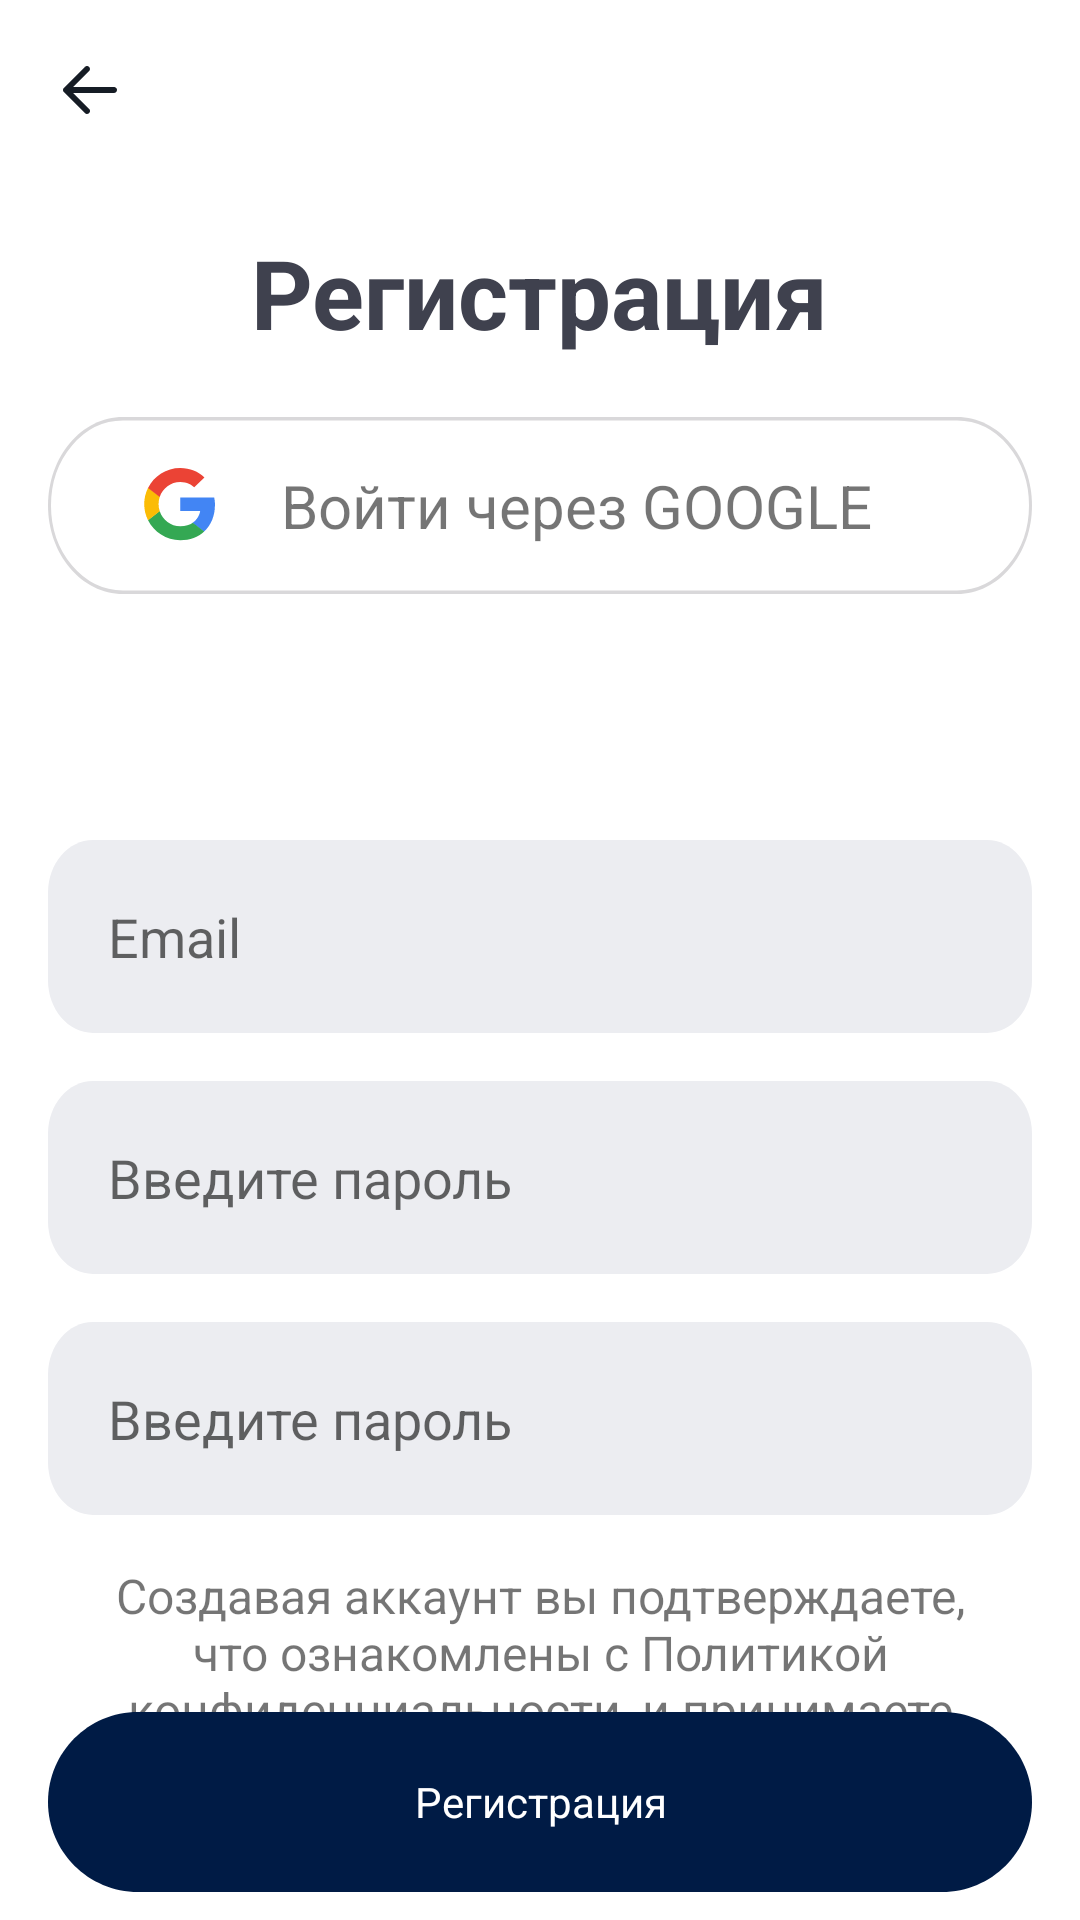

Icons on this 1080px x 1920px Android screen, each with the point to tap as (x=x, y=y):
simple back: (x=90, y=90)
